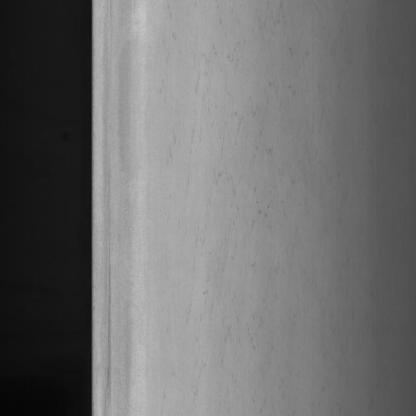silk_spot: (172, 24, 287, 317)
